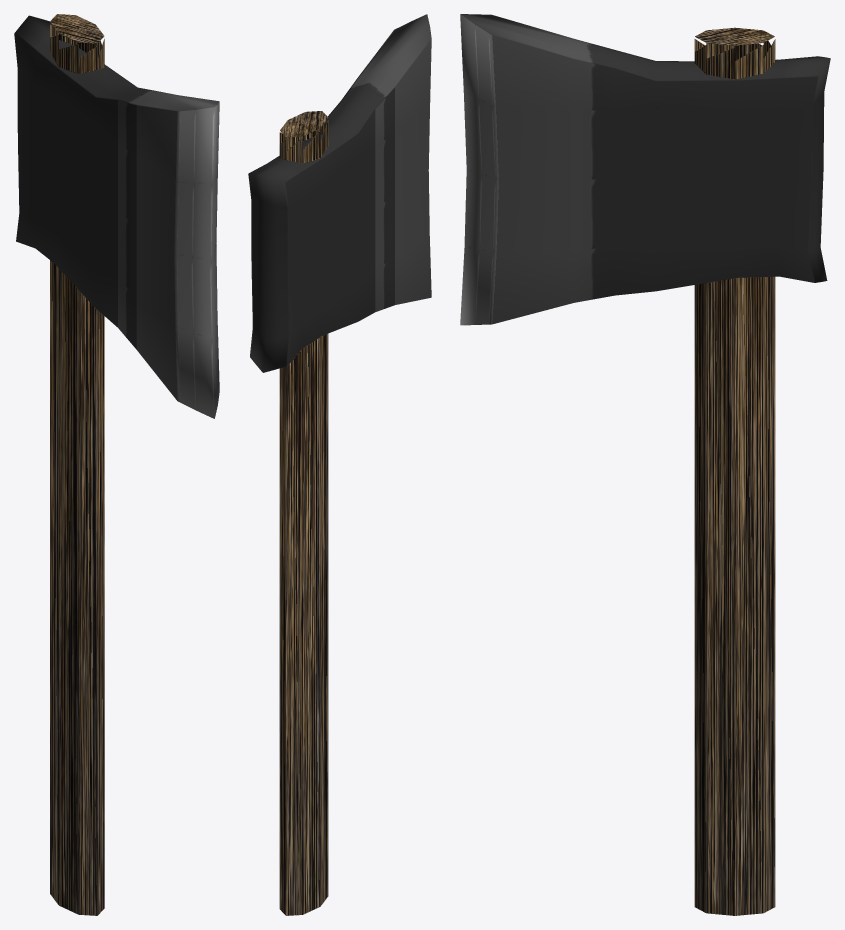
File: axe.fbx
3 views of the same model, side by side, from view 1: azimuth 30°, elevation 25°; view 2: azimuth 150°, elevation 25°; view 3: azimuth 270°, elevation 25° (orthographic). The views are drawn at different scales.
Visible parts, largest first — view 1: axehead, axehandle; view 2: axehead, axehandle; view 3: axehead, axehandle.
Boxes of the visible parts, x1,y1,x2,y2 form: axehead: [14, 15, 219, 418]; axehandle: [50, 14, 104, 915]; axehead: [248, 14, 431, 372]; axehandle: [279, 111, 328, 915]; axehead: [460, 14, 830, 325]; axehandle: [694, 27, 775, 915].
Bounding box in the file's own units: 15.51 × 314 × 118.
